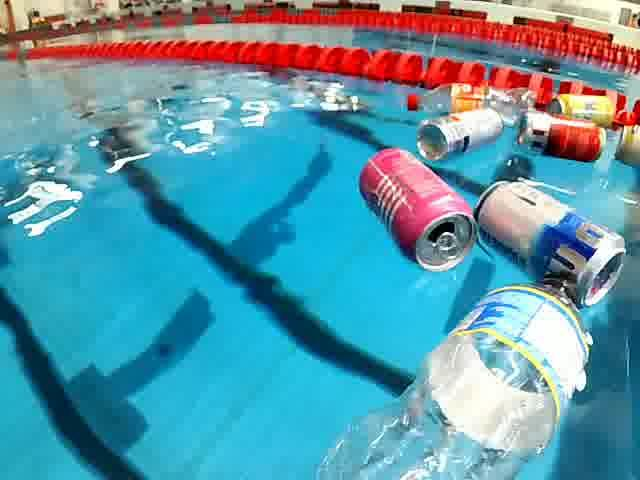Bottle: (304, 268, 599, 480), (398, 81, 540, 125)
Can: (472, 174, 630, 310), (354, 142, 482, 274), (508, 112, 612, 170), (408, 108, 506, 160), (535, 98, 621, 128)
